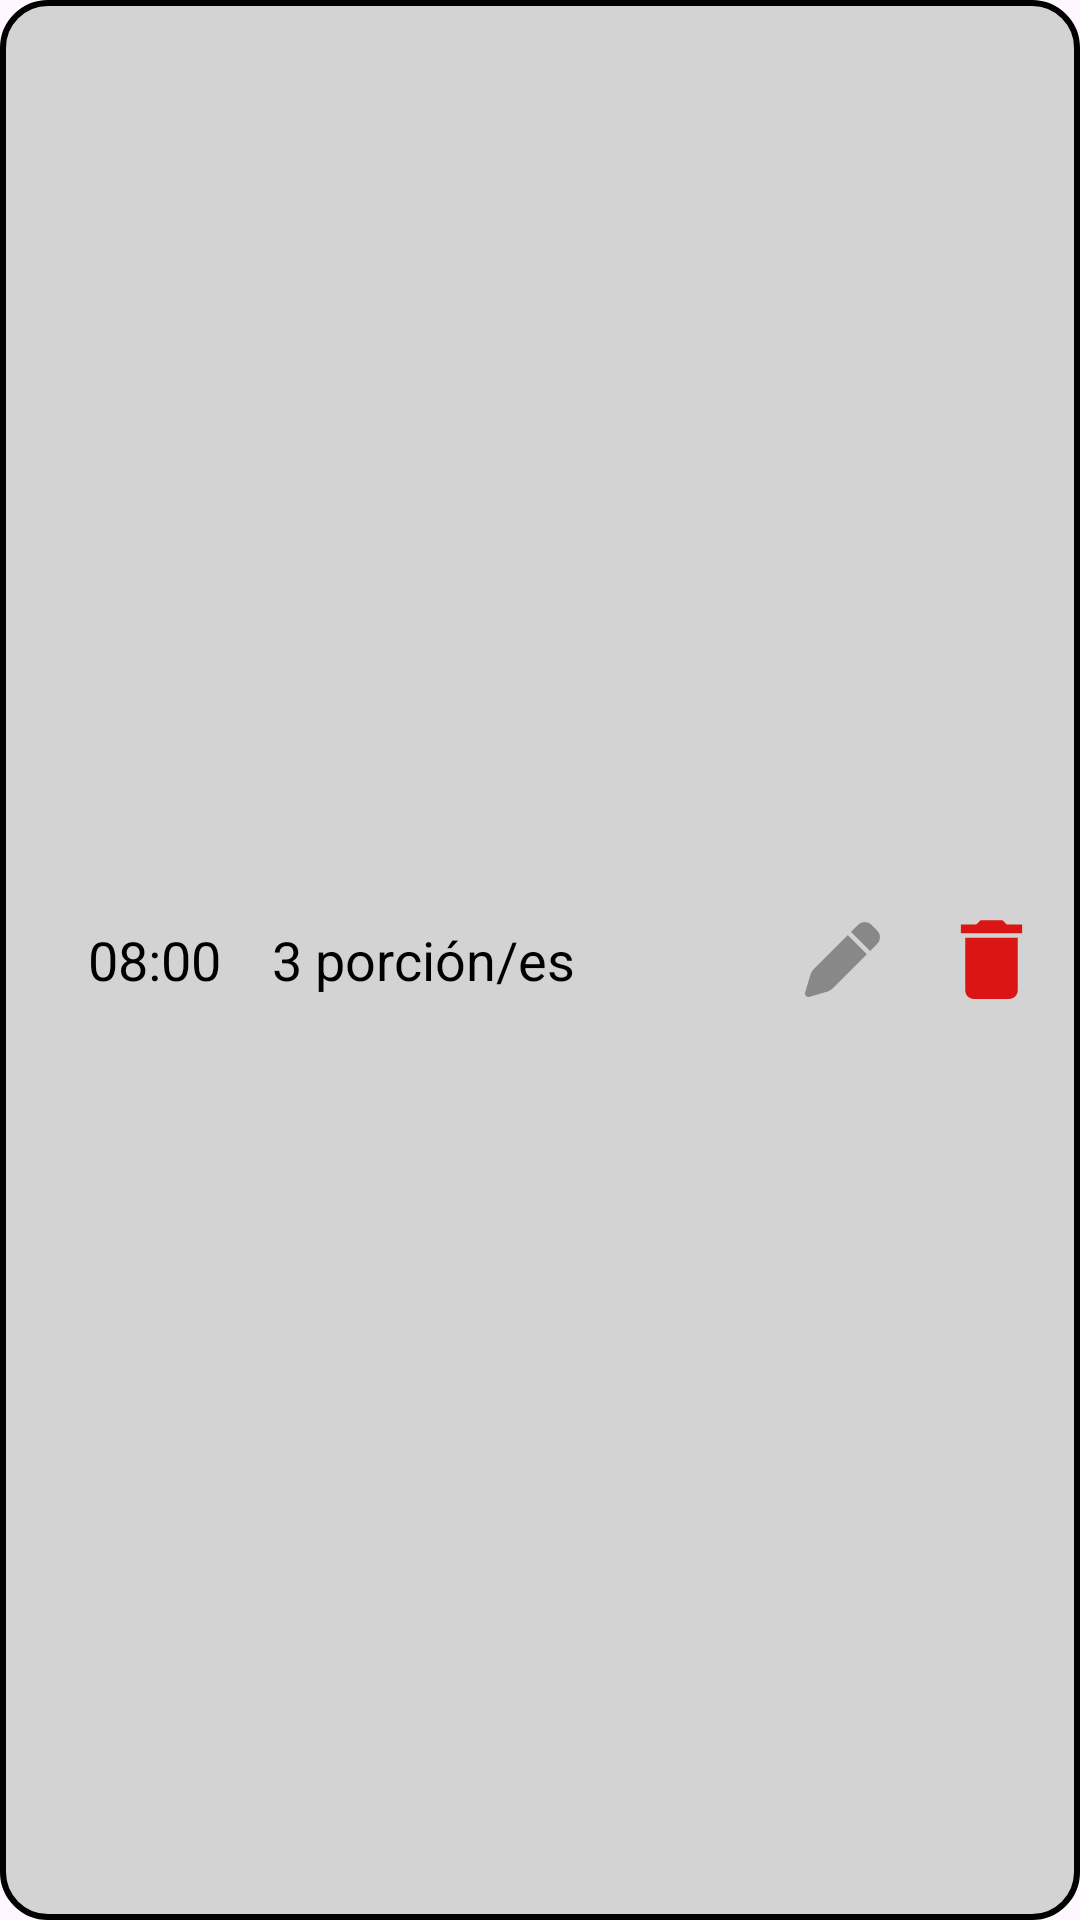

Screen size 1080 x 1920. Icon name, then its box in pixels as box(x1, y1, x2, y2):
delete: box(961, 920, 1022, 999)
edit: box(805, 922, 880, 997)
